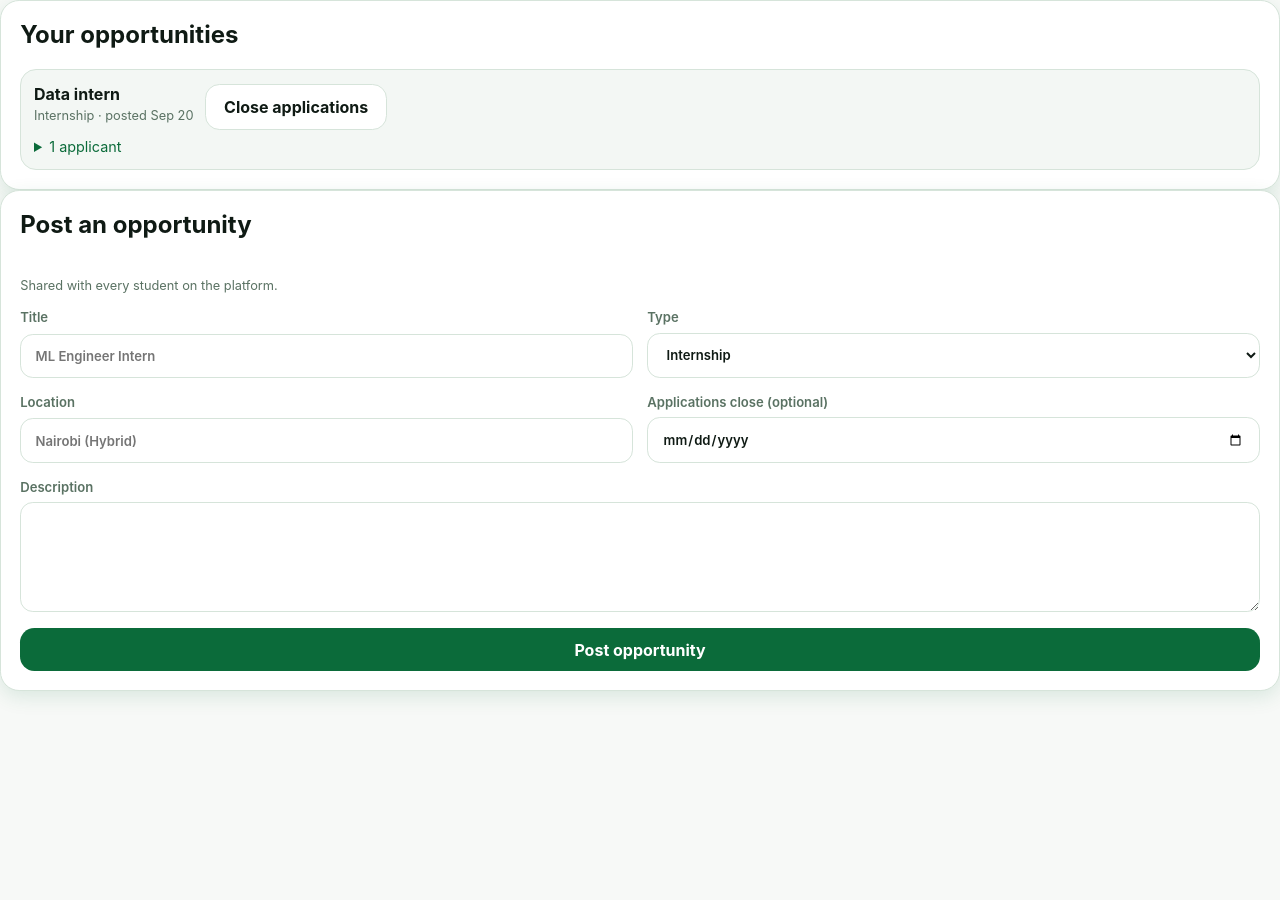
Scenario: opportunities › shows the poster who applied
Click the heading "1 applicant".
click(85, 146)  # box [49,138,122,154]
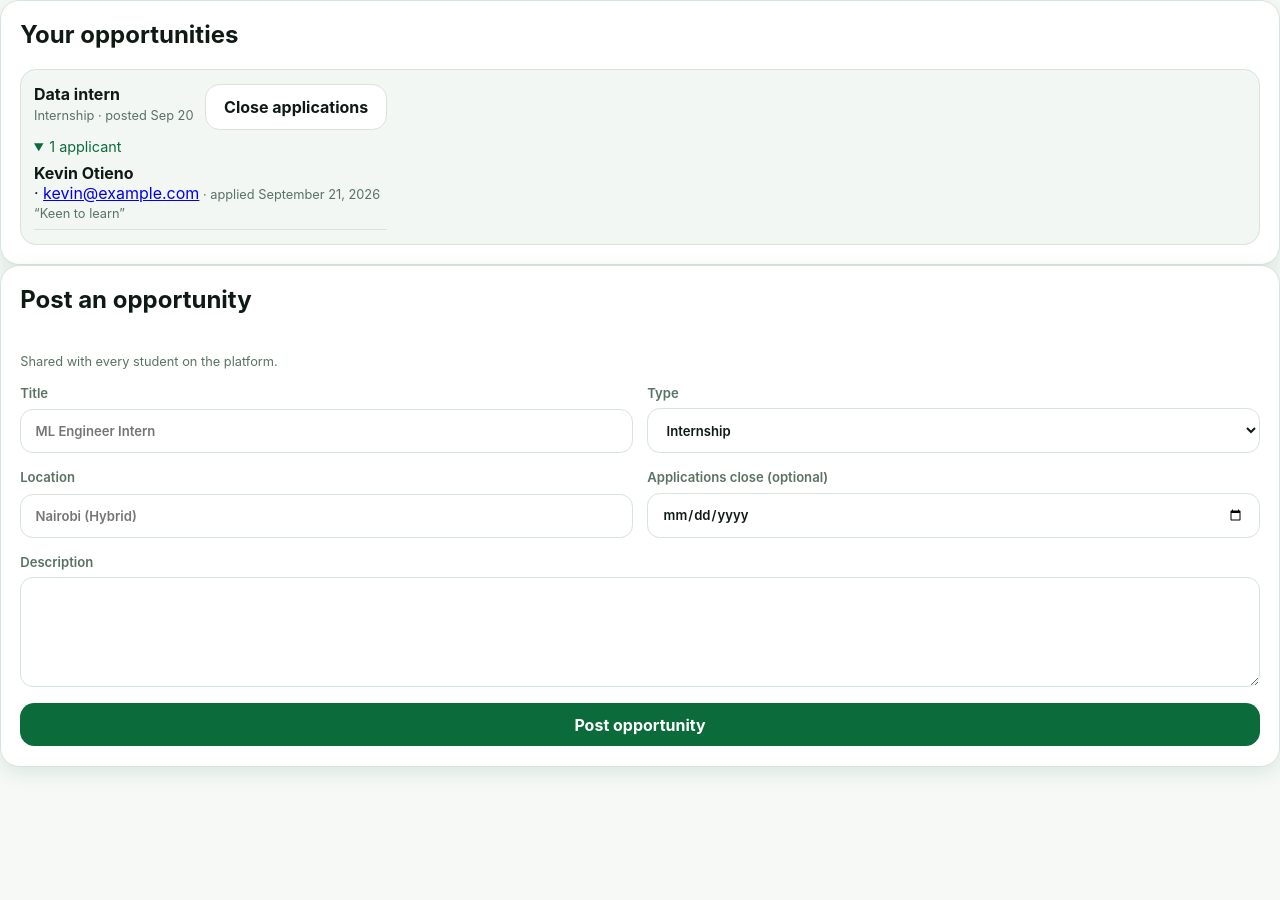
Check: the text "Kevin Otieno" is shown, box [34,162,134,182]
Check: the text "“Keen to learn”" is shown, box [34,206,125,221]
